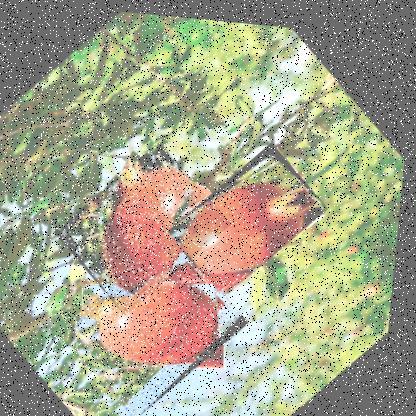pomegranate: (58, 219, 262, 415), (51, 128, 241, 318), (166, 127, 336, 299)
